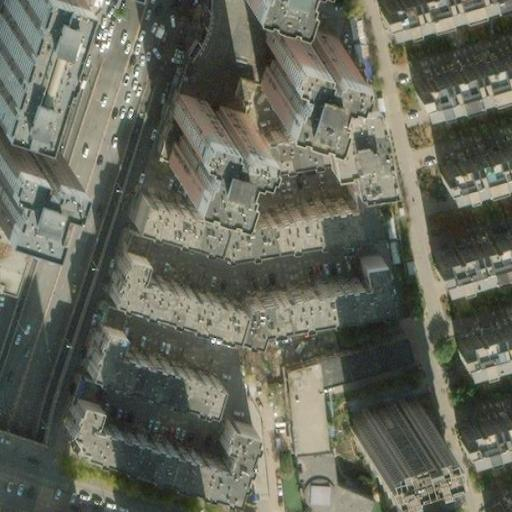building: (58, 404, 244, 495), (279, 329, 400, 452), (77, 324, 209, 415), (231, 250, 377, 327), (100, 247, 231, 331), (254, 11, 337, 100), (159, 87, 242, 176), (404, 36, 512, 103), (227, 210, 350, 259), (285, 446, 366, 512), (323, 124, 394, 198), (431, 223, 512, 281), (433, 131, 512, 188), (134, 204, 219, 256), (339, 388, 417, 440), (448, 315, 512, 369), (369, 0, 471, 28), (257, 124, 324, 163), (462, 405, 512, 452)
